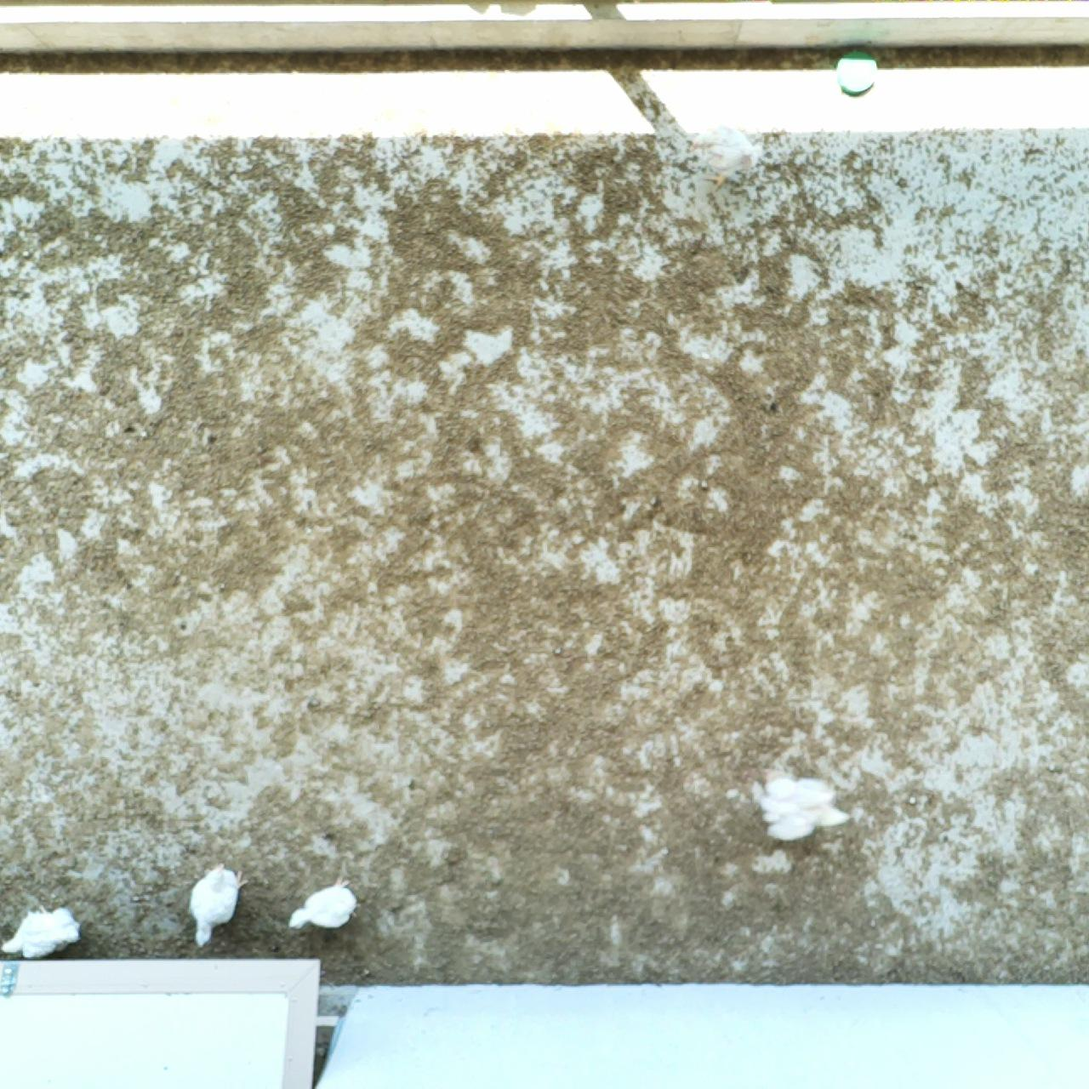chicken: (750, 767, 850, 839), (188, 863, 251, 951), (1, 905, 86, 961), (689, 125, 761, 191), (286, 875, 361, 935)
